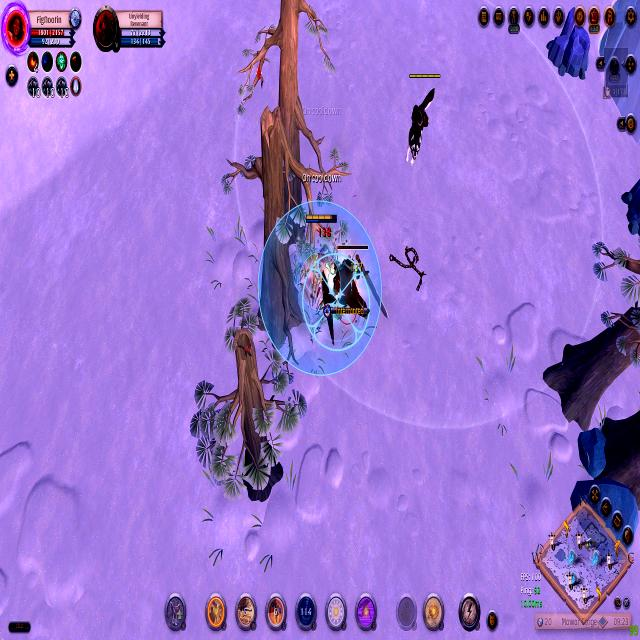ore: (321, 240, 372, 340)
red: (302, 212, 336, 298)
tree: (547, 5, 595, 84), (623, 160, 640, 247)
